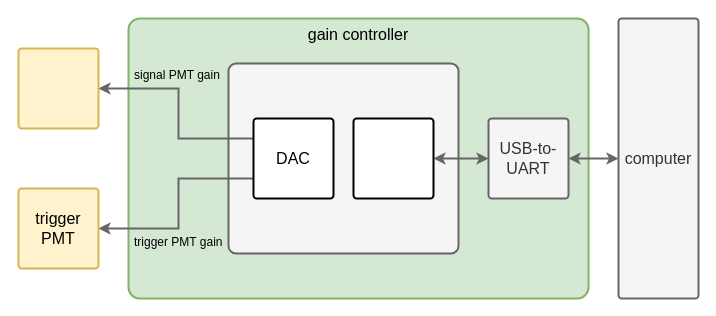
This 716x316 diagram has some shape labels left out. The box of each missing label's shape, as (x1, y1, x2, y2) in pixels:
MCU: (227, 62, 459, 254)
signal PMT: (17, 47, 99, 129)
UART: (352, 117, 434, 199)
